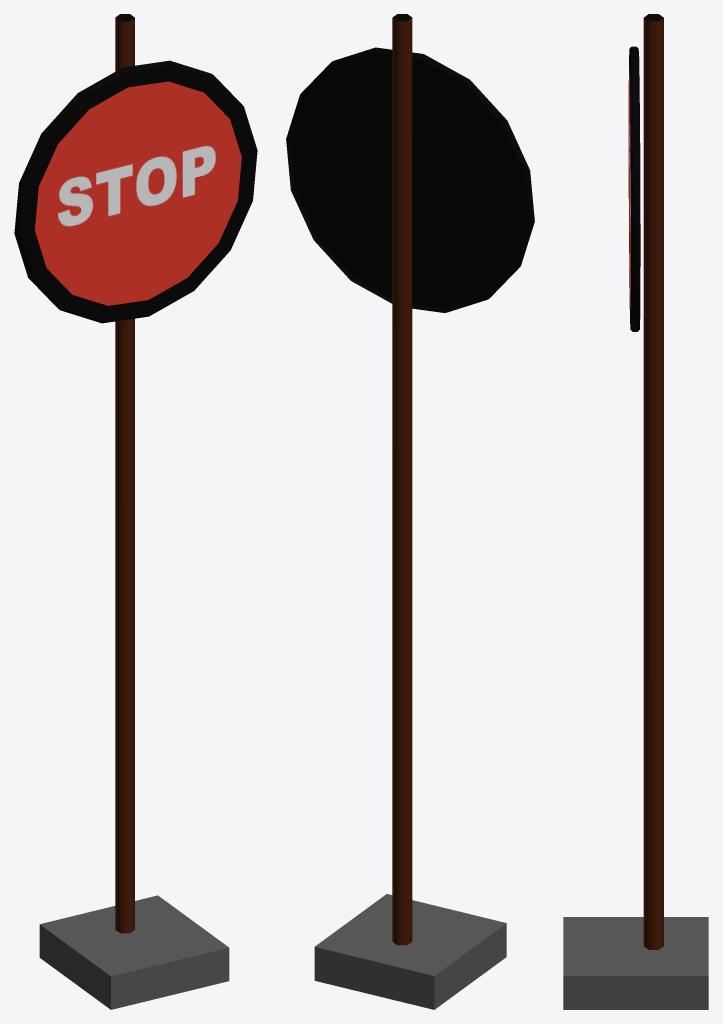
File: Stop sign.fbx
3 views of the same model, side by side, from view 1: azimuth 30°, elevation 25°; view 2: azimuth 150°, elevation 25°; view 3: azimuth 270°, elevation 25° (orthographic).
Visible parts, largest first — view 1: Stopsign; view 2: Stopsign; view 3: Stopsign.
Part boxes in pixels (<box>): Stopsign: <box>14,14,257,1009</box>; Stopsign: <box>286,14,534,1009</box>; Stopsign: <box>563,14,708,1009</box>.
Bounding box in the file's own units: 33.72 × 126 × 17.23.
